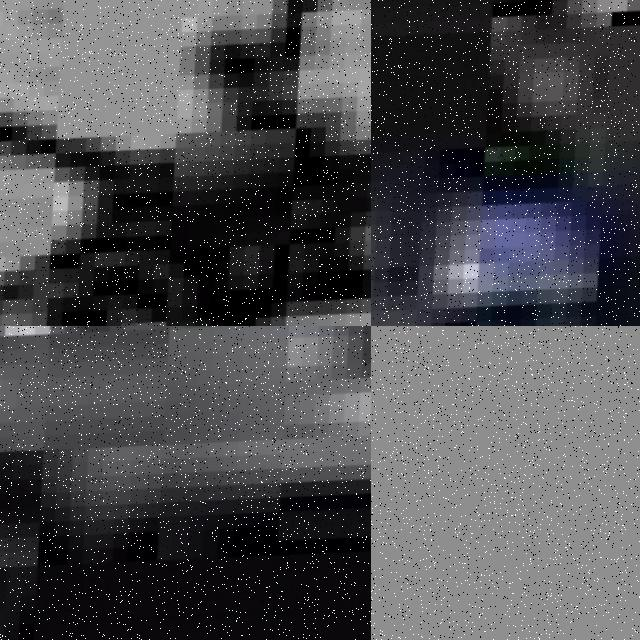drone: (0, 0, 371, 326), (0, 326, 371, 640), (371, 0, 640, 326)
